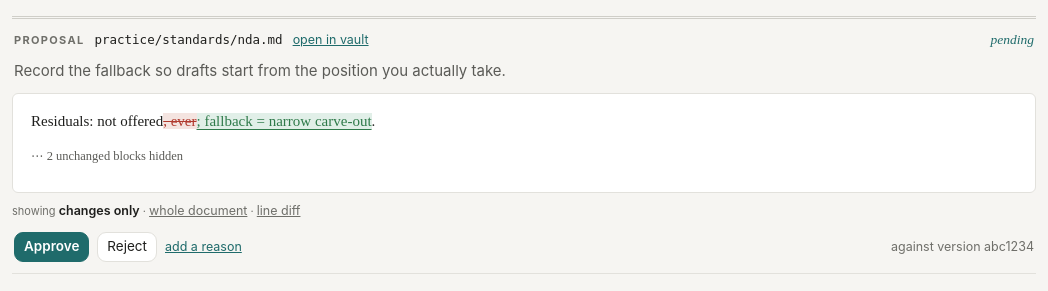
the proposal slip › a 409 for an already-decided proposal adopts the settled status
Click the button "Approve". click: {"x": 52, "y": 247}
box: [14,232,89,262]
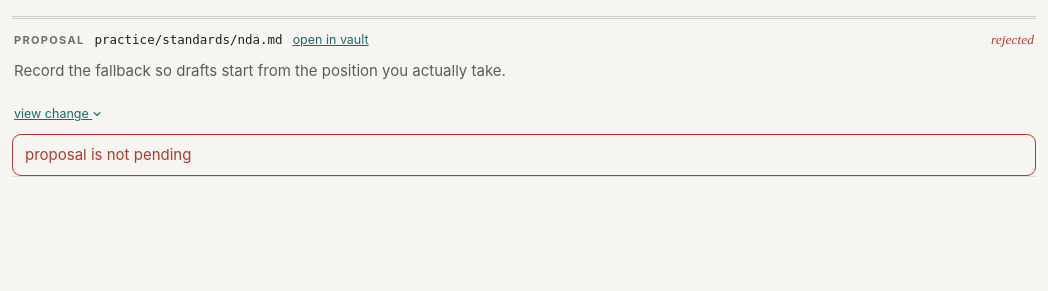
Now the text "rejected" is shown, box [991,33,1034,46]
